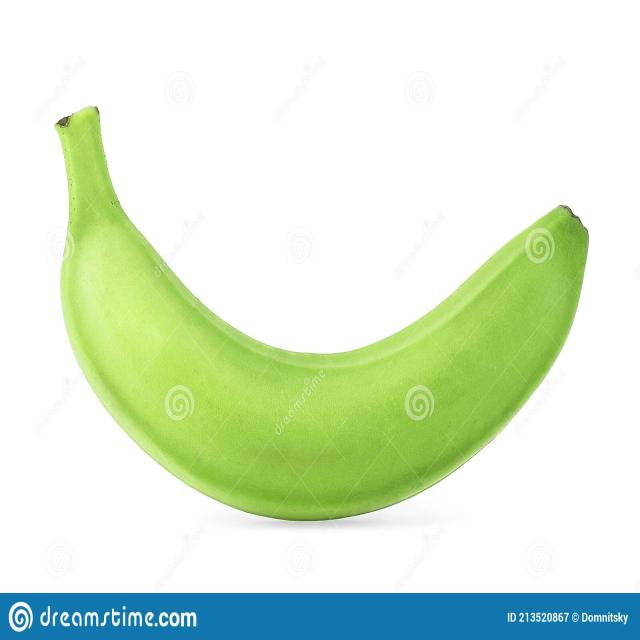non_orange: (50, 100, 592, 530)
